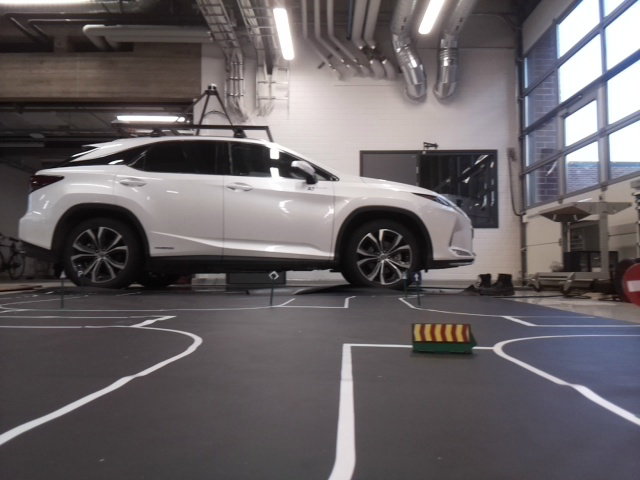ClosedRoadStand: (412, 322, 472, 347)
